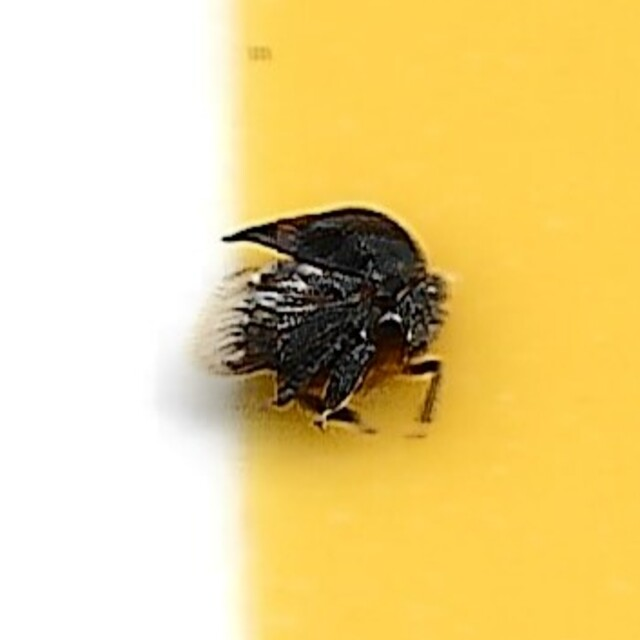Hemiptera: (181, 203, 459, 437)
